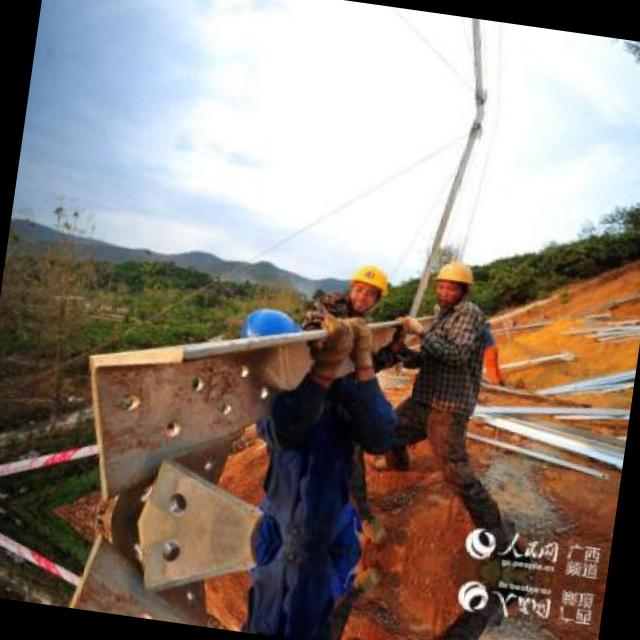helmet: (231, 298, 314, 381), (338, 254, 395, 318), (428, 253, 479, 310)
